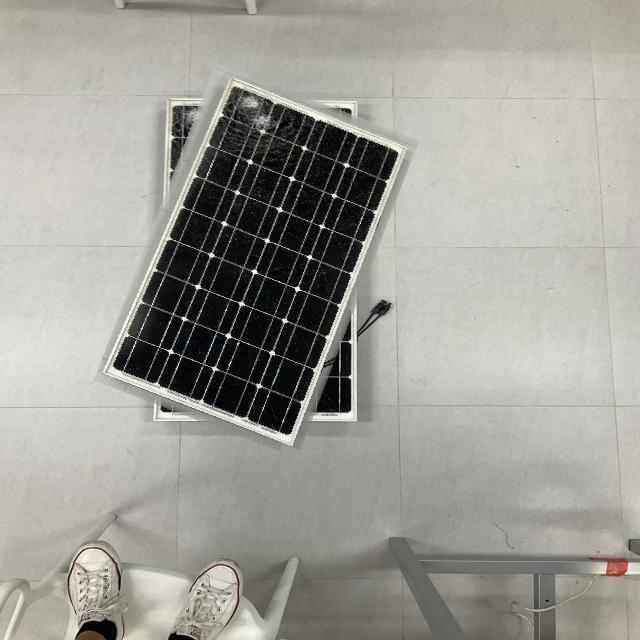Structural Damage: (89, 79, 408, 468)
